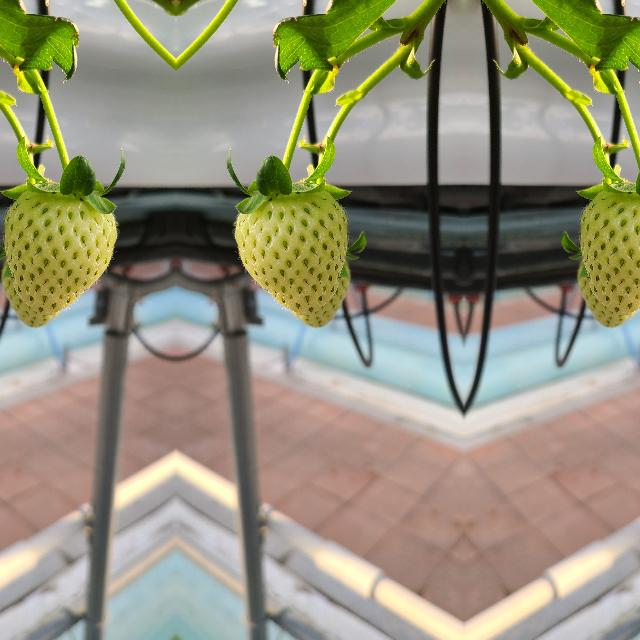Health_25: (234, 189, 346, 315), (4, 189, 116, 315), (580, 189, 640, 315)
